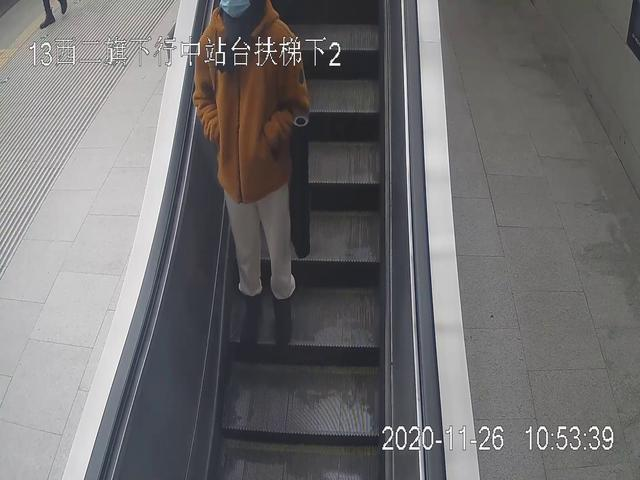person: (194, 1, 309, 349)
